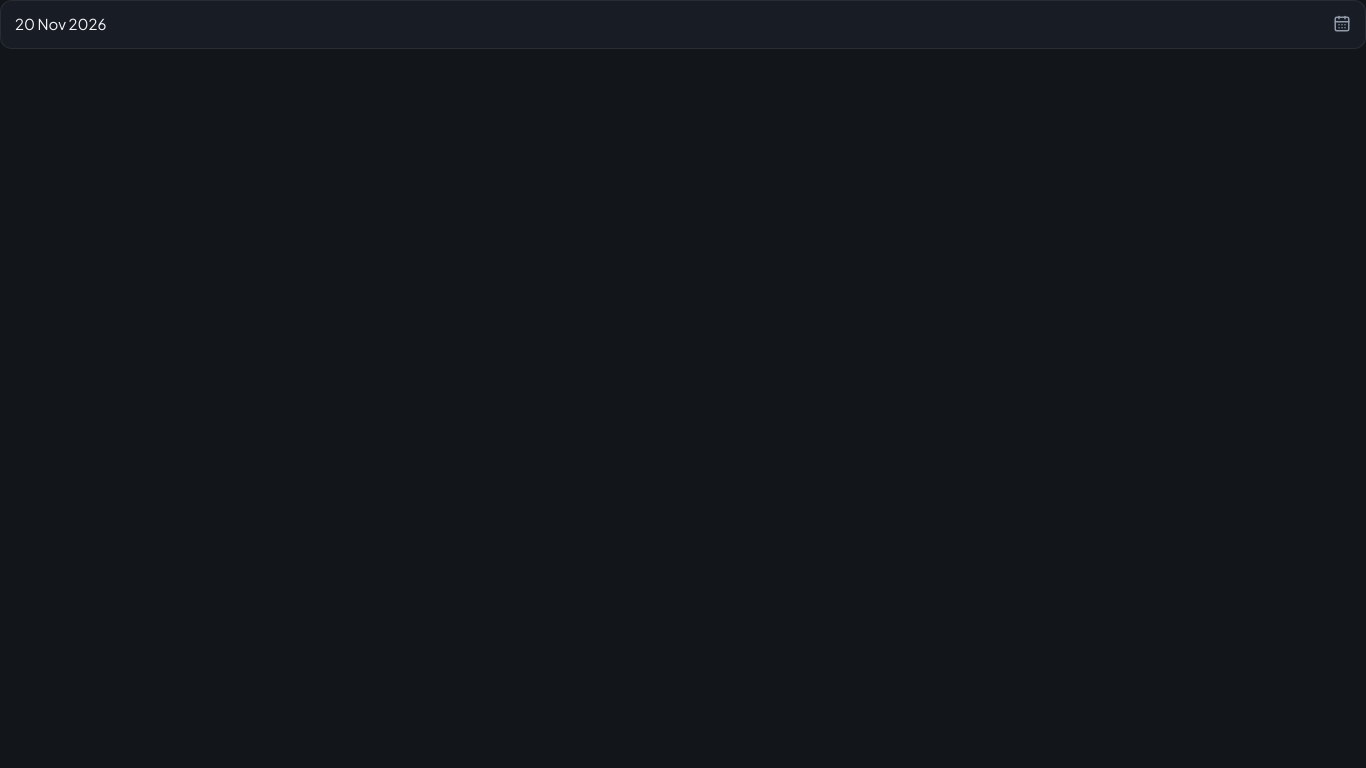
DatePicker (a calendar in a bottom sheet) › does not let a day outside min and max be picked
The width and height of the screenshot is (1366, 768).
What coordinates should you click on to do the following:
click the button with aria-label "Day"
I would click on:
 (61, 24)
Its box is [0, 0, 1365, 48].
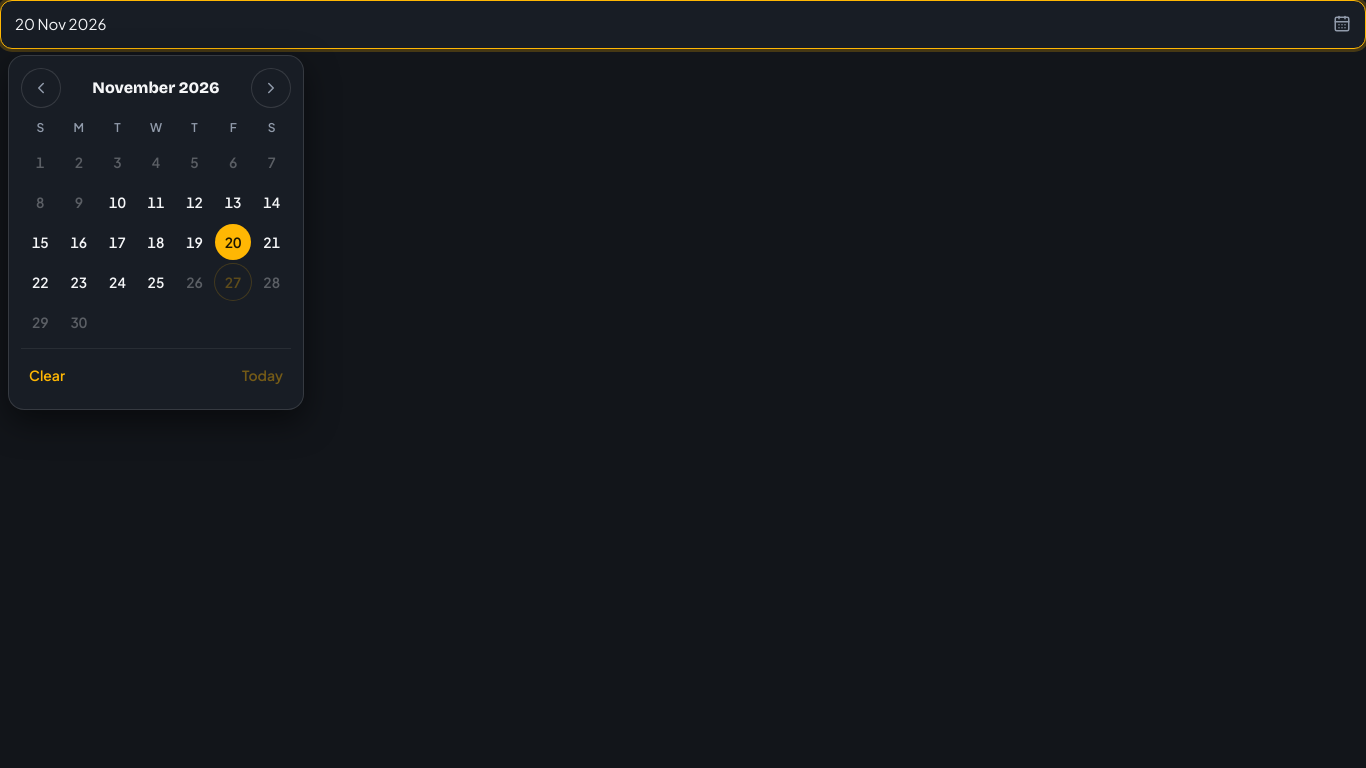
Now the button named "9 November 2026" is disabled, box [61, 184, 97, 220]
Now the button named "10 November 2026" is enabled, box [99, 184, 135, 220]
Now the button named "26 November 2026" is disabled, box [177, 264, 213, 300]
